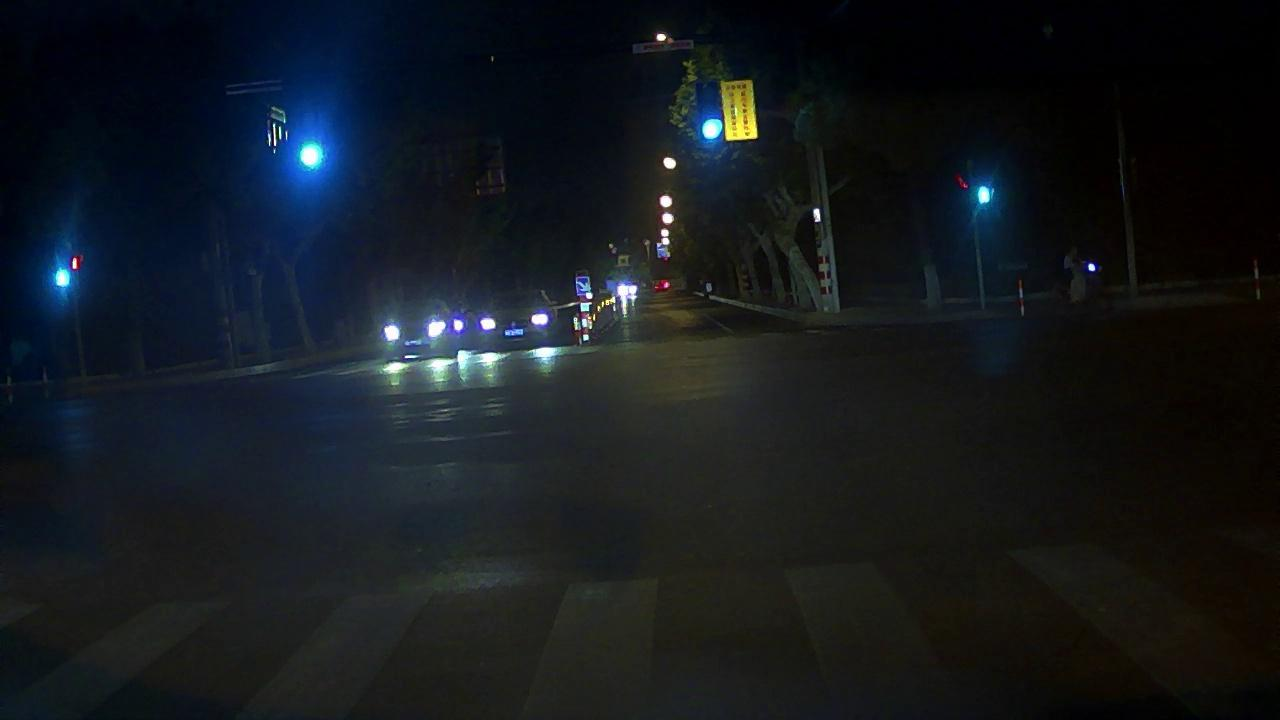traffic_light: (696, 85, 726, 147), (292, 136, 328, 174)
